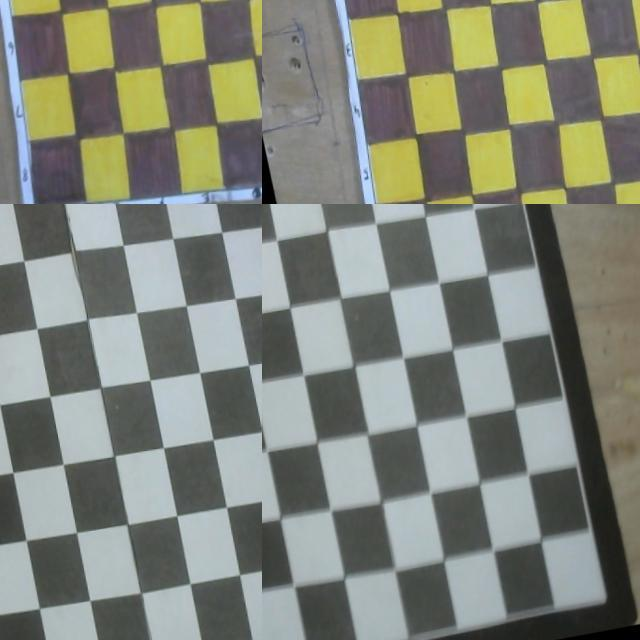chess-table-corners: (586, 600, 596, 616), (486, 204, 500, 210), (262, 204, 268, 211), (251, 204, 259, 209), (0, 214, 3, 223), (323, 0, 328, 3), (0, 0, 2, 3)
